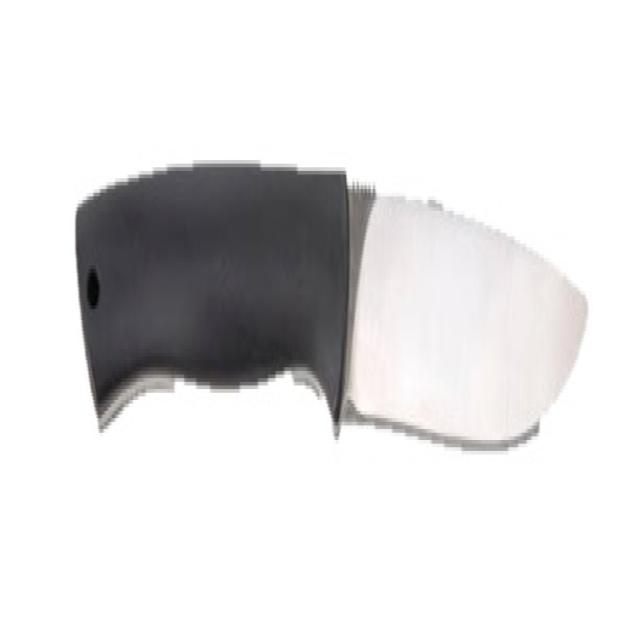knife: (74, 135, 591, 463)
